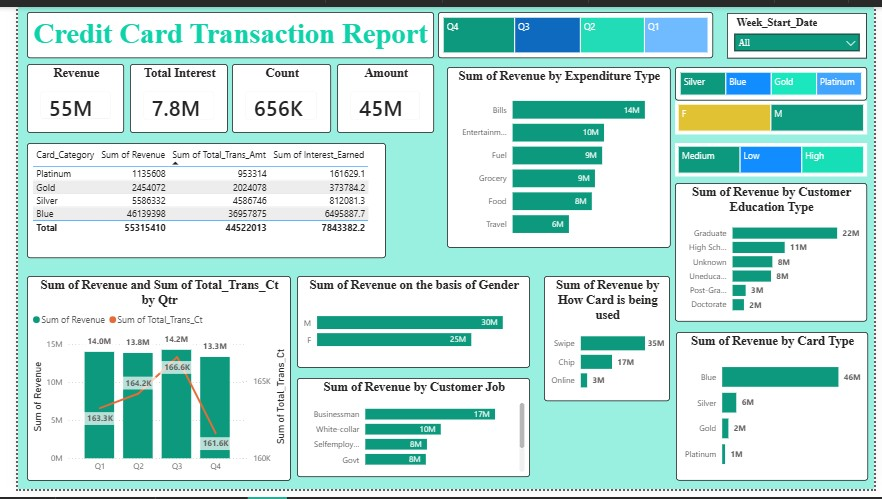

Layout of this report page (visuals, bound fields, positions):
{"tool":"powerbi","page":{"name":"Credit card","canvas":[1280,720],"ordinal":0},"visuals":[{"type":"textbox","box":[13.4,19.4,639.3,56.8],"z":0},{"type":"lineStackedColumnComboChart","fields":{"Category":["credit_card_detail.Qtr"],"Y":["Sum(credit_card_detail.Revenue)"],"Y2":["Sum(credit_card_detail.Total_Trans_Ct)"]},"box":[13.2,401.1,393.8,305.6],"z":1000},{"type":"barChart","title":"Sum of Revenue by Expenditure Type","fields":{"Y":["Sum(credit_card_detail.Revenue)"],"Category":["credit_card_detail.Exp_Type"]},"box":[640.7,89.6,333.6,270.4],"z":2000},{"type":"barChart","title":"Sum of Revenue by Customer Job","fields":{"Y":["Sum(credit_card_detail.Revenue)"],"Category":["customer_detail.Customer_Job"]},"box":[417.3,554,348.2,148.4],"z":3000},{"type":"barChart","title":"Sum of Revenue by Customer Education Type","fields":{"Y":["Sum(credit_card_detail.Revenue)"],"Category":["customer_detail.Education_Level"]},"box":[981.6,263,286.5,207.2],"z":4000},{"type":"barChart","title":"Sum of Revenue on the basis of Gender","fields":{"Y":["Sum(credit_card_detail.Revenue)"],"Category":["customer_detail.Gender"]},"box":[417.3,401.1,348.2,136.7],"z":5000},{"type":"barChart","title":"Sum of Revenue by Card Type","fields":{"Y":["Sum(credit_card_detail.Revenue)"],"Category":["credit_card_detail.Card_Category"]},"box":[983,484.9,286.5,221.9],"z":6000},{"type":"barChart","title":"Sum of Revenue by How Card is being used","fields":{"Y":["Sum(credit_card_detail.Revenue)"],"Category":["credit_card_detail.Use_Chip"]},"box":[786.1,401.1,188.1,186.6],"z":7000},{"type":"textbox","box":[13.2,7.3,608.3,69.1],"z":8000},{"type":"tableEx","fields":{"Values":["credit_card_detail.Card_Category","Sum(credit_card_detail.Revenue)","Sum(credit_card_detail.Total_Trans_Amt)","Sum(credit_card_detail.Interest_Earned)"]},"box":[13.2,202.8,536.3,171.9],"z":9000},{"type":"cardVisual","title":"Revenue","fields":{"Data":["Sum(credit_card_detail.Revenue)"]},"box":[13.2,85.2,145.5,102.9],"z":10000},{"type":"cardVisual","title":"Total Interest","fields":{"Data":["Sum(credit_card_detail.Interest_Earned)"]},"box":[167.3,85.1,146.4,103.1],"z":11000},{"type":"cardVisual","title":"Count","fields":{"Data":["Sum(credit_card_detail.Total_Trans_Ct)"]},"box":[319.7,85.1,147.9,103.1],"z":12000},{"type":"cardVisual","title":"Amount","fields":{"Data":["Sum(credit_card_detail.Total_Trans_Amt)"]},"box":[476.5,85.1,144.9,103.1],"z":13000},{"type":"slicer","fields":{"Values":["credit_card_detail.Week_Start_Date"]},"box":[1059.4,8.8,208.7,67.6],"z":14000},{"type":"treemap","fields":{"Group":["credit_card_detail.Qtr"],"Values":["Avg(credit_card_detail.Client_Num)"]},"box":[627.4,7.3,411.4,69.1],"z":15000},{"type":"treemap","fields":{"Values":["Avg(credit_card_detail.Client_Num)"],"Group":["credit_card_detail.Card_Category"]},"box":[981.6,89.6,286.5,50],"z":16000},{"type":"treemap","fields":{"Values":["Avg(credit_card_detail.Client_Num)"],"Group":["customer_detail.Gender"]},"box":[981.6,141.1,286.5,50],"z":17000},{"type":"treemap","fields":{"Values":["Avg(credit_card_detail.Client_Num)"],"Group":["customer_detail.IncomeGroup"]},"box":[981.6,202.8,286.5,50],"z":18000}]}

Visuals, with their boxes in screenshot pixels (x1, y1, x2, y2), scaled from the page's 1280x720 canvas onto the 882x499 screenshot:
textbox: (left=9, top=13, right=450, bottom=53)
lineStackedColumnComboChart - credit_card_detail.Qtr x Sum(credit_card_detail.Revenue): (left=9, top=278, right=280, bottom=490)
"Sum of Revenue by Expenditure Type" barChart: (left=441, top=62, right=671, bottom=250)
"Sum of Revenue by Customer Job" barChart: (left=288, top=384, right=527, bottom=487)
"Sum of Revenue by Customer Education Type" barChart: (left=676, top=182, right=874, bottom=326)
"Sum of Revenue on the basis of Gender" barChart: (left=288, top=278, right=527, bottom=373)
"Sum of Revenue by Card Type" barChart: (left=677, top=336, right=875, bottom=490)
"Sum of Revenue by How Card is being used" barChart: (left=542, top=278, right=671, bottom=407)
textbox: (left=9, top=5, right=428, bottom=53)
tableEx - credit_card_detail.Card_Category x Sum(credit_card_detail.Revenue): (left=9, top=141, right=379, bottom=260)
"Revenue" cardVisual: (left=9, top=59, right=109, bottom=130)
"Total Interest" cardVisual: (left=115, top=59, right=216, bottom=130)
"Count" cardVisual: (left=220, top=59, right=322, bottom=130)
"Amount" cardVisual: (left=328, top=59, right=428, bottom=130)
slicer - credit_card_detail.Week_Start_Date: (left=730, top=6, right=874, bottom=53)
treemap - credit_card_detail.Qtr x Avg(credit_card_detail.Client_Num): (left=432, top=5, right=716, bottom=53)
treemap - Avg(credit_card_detail.Client_Num) x credit_card_detail.Card_Category: (left=676, top=62, right=874, bottom=97)
treemap - Avg(credit_card_detail.Client_Num) x customer_detail.Gender: (left=676, top=98, right=874, bottom=132)
treemap - Avg(credit_card_detail.Client_Num) x customer_detail.IncomeGroup: (left=676, top=141, right=874, bottom=175)
